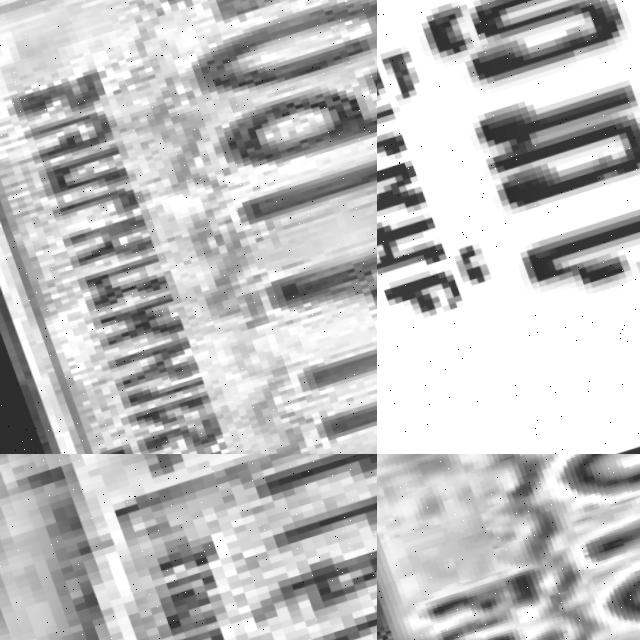license-plate: (0, 0, 377, 454), (377, 0, 640, 454), (0, 454, 377, 640), (377, 454, 640, 640)
